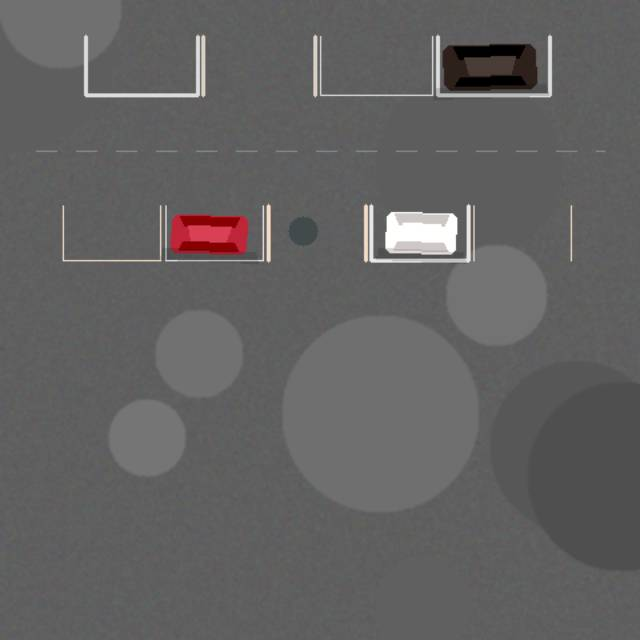space-empty: (85, 36, 197, 95), (203, 36, 315, 95), (320, 36, 432, 95), (473, 205, 571, 260), (63, 205, 160, 260), (268, 205, 365, 260)
space-occupied: (437, 36, 549, 95), (165, 205, 263, 260), (371, 205, 468, 260)
